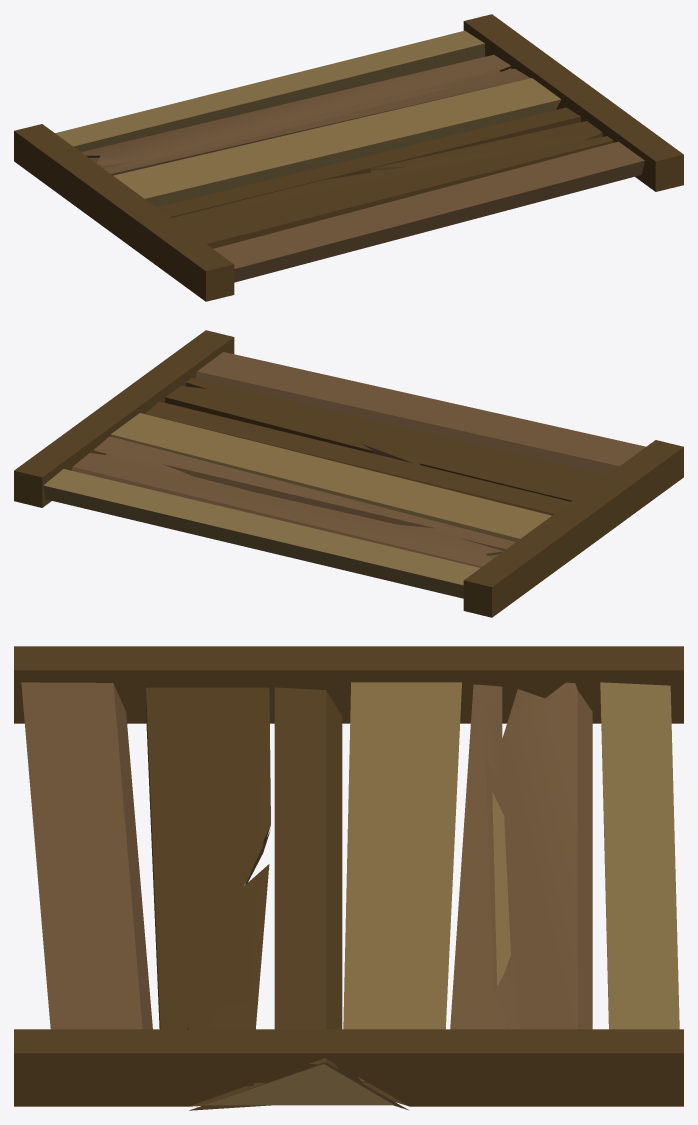
The model's file is woodplatform.glb.
3 views of the same model, one above another, from view 1: azimuth 30°, elevation 25°; view 2: azimuth 150°, elevation 25°; view 3: azimuth 270°, elevation 25° (orthographic). The views are drawn at different scales.
Parts seen in each view (by area): view 1: pCube277_wood_light_0.001, pCube273_wood_0.001, pCube275_wood_dark_0.001, pCube278_wood_0.001, pCube274_wood_dark_0.001, pCube279_wood_light_0.001, pCube280_wood_dark_0.001, pCube276_wood_dark_0.001; view 2: pCube278_wood_0.001, pCube273_wood_0.001, pCube279_wood_light_0.001, pCube275_wood_dark_0.001, pCube277_wood_light_0.001, pCube274_wood_dark_0.001, pCube280_wood_dark_0.001, pCube276_wood_dark_0.001; view 3: pCube280_wood_dark_0.001, pCube278_wood_0.001, pCube275_wood_dark_0.001, pCube277_wood_light_0.001, pCube273_wood_0.001, pCube274_wood_dark_0.001, pCube279_wood_light_0.001, pCube276_wood_dark_0.001, pCube280_wood_light_0.001, pCube278_wood_light_0.001, pCube280_wood_0.001.
Boxes of the visible parts, x1,y1,x2,y2 form: pCube277_wood_light_0.001: (113, 78, 561, 207); pCube273_wood_0.001: (213, 141, 644, 282); pCube275_wood_dark_0.001: (171, 121, 613, 248); pCube278_wood_0.001: (81, 54, 530, 175); pCube274_wood_dark_0.001: (14, 124, 234, 301); pCube279_wood_light_0.001: (55, 30, 484, 151); pCube280_wood_dark_0.001: (463, 14, 683, 191); pCube276_wood_dark_0.001: (156, 107, 580, 217); pCube278_wood_0.001: (71, 436, 515, 567); pCube273_wood_0.001: (195, 352, 645, 474); pCube279_wood_light_0.001: (43, 469, 480, 598); pCube275_wood_dark_0.001: (165, 378, 607, 501); pCube277_wood_light_0.001: (111, 413, 551, 541); pCube274_wood_dark_0.001: (463, 440, 683, 617); pCube280_wood_dark_0.001: (14, 330, 234, 507); pCube276_wood_dark_0.001: (145, 401, 570, 515); pCube280_wood_dark_0.001: (14, 1029, 683, 1106); pCube278_wood_0.001: (450, 682, 592, 1029); pCube275_wood_dark_0.001: (146, 687, 270, 1086); pCube277_wood_light_0.001: (343, 682, 461, 1081); pCube273_wood_0.001: (21, 682, 152, 1029); pCube274_wood_dark_0.001: (14, 646, 683, 723); pCube279_wood_light_0.001: (600, 682, 679, 1029); pCube276_wood_dark_0.001: (274, 687, 342, 1079); pCube280_wood_light_0.001: (205, 1064, 393, 1105); pCube278_wood_light_0.001: (492, 792, 510, 985); pCube280_wood_0.001: (189, 1062, 408, 1110).
Size of the model in its own units: 4.3 by 0.2823 by 2.99.
